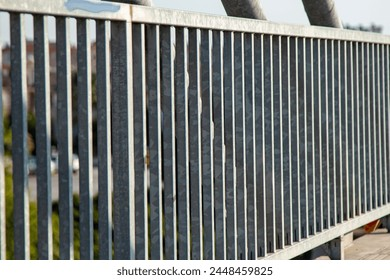Fence: (12, 17, 387, 252)
